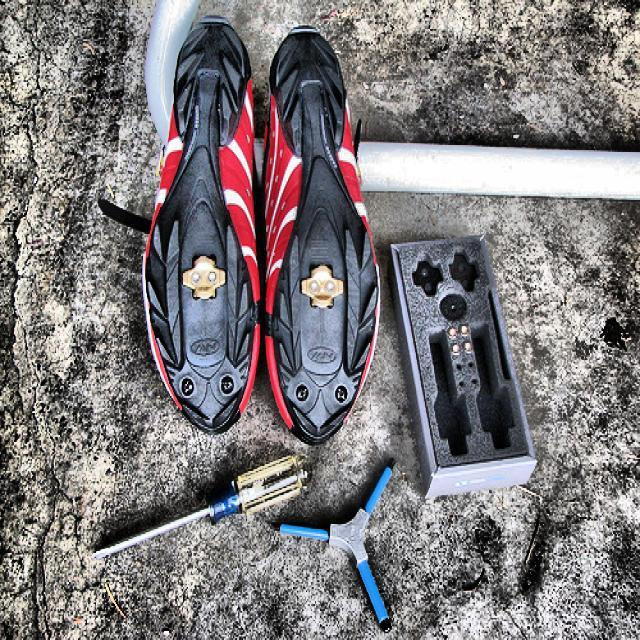screwdriver: (92, 452, 311, 562)
